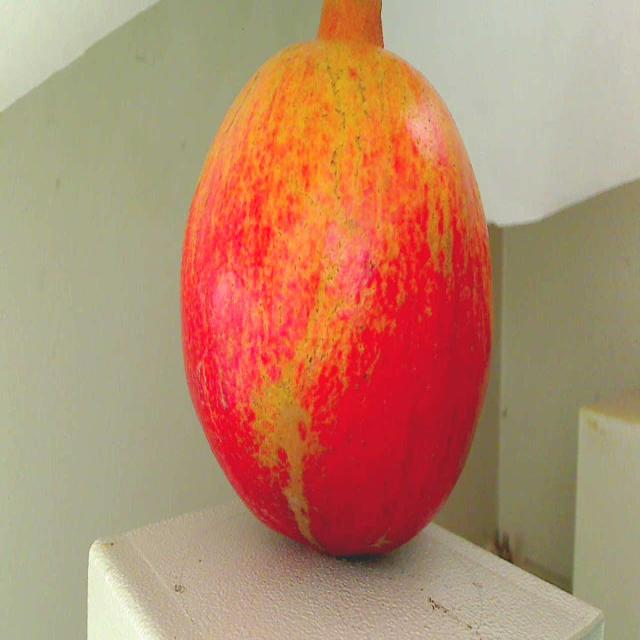pomegranate: (168, 0, 499, 566)
